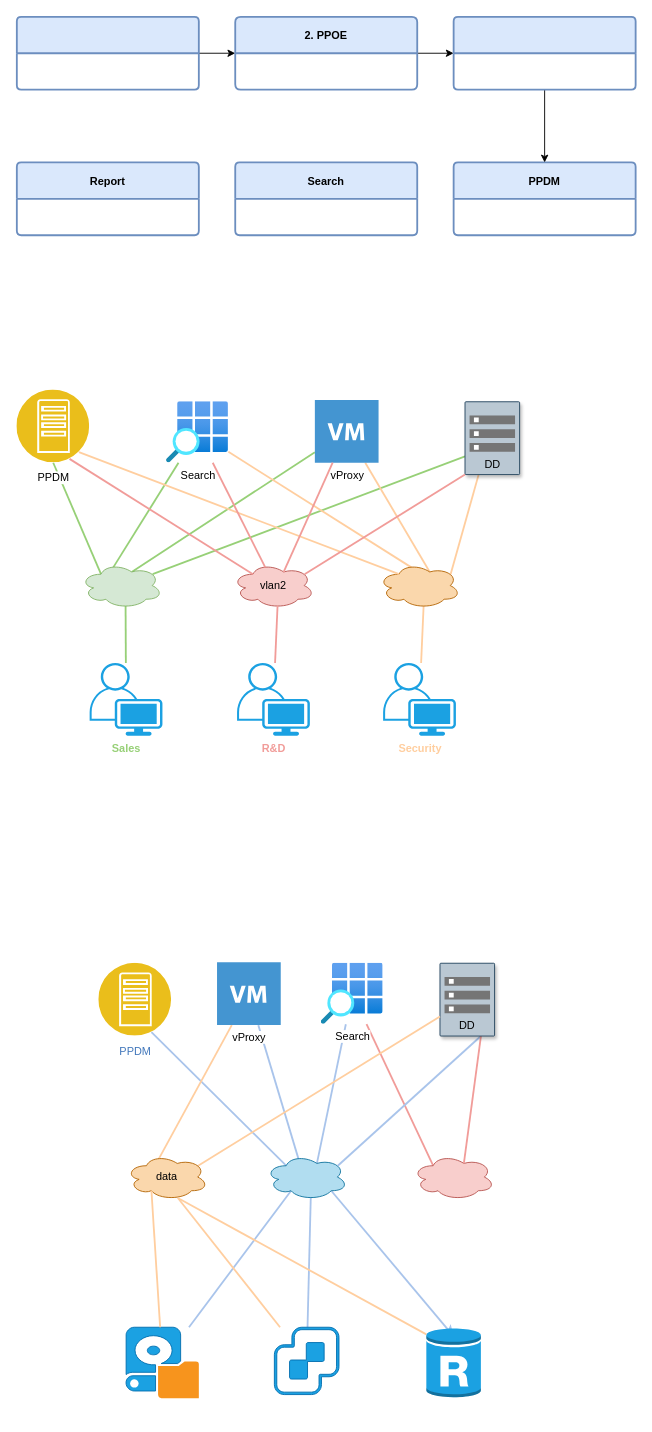
Some shapes in this 652 by 1432 pixel diagram are drawn without their labels. Here are the shapes that lost their labels. From the top down, the centre of each, then its label:
(107,52): 1. DDVE
(544,52): 3.vCenter
(121,585): vlan1
(419,585): vlan3
(306,1176): management
(453,1176): data management
(162,1362): FileSystem
(306,1360): vCenter
(453,1362): Oracle
